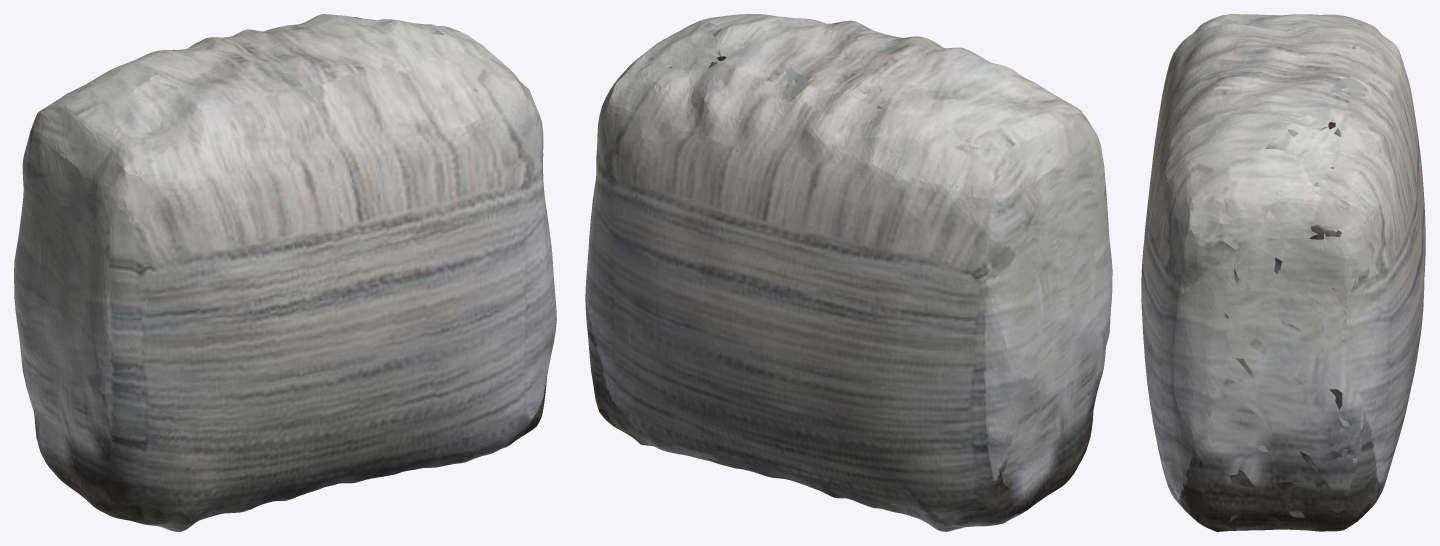
File: living-05-ottoman.glb
The picture shows the model from 3 angles, left to right: view 1: azimuth 30°, elevation 25°; view 2: azimuth 150°, elevation 25°; view 3: azimuth 270°, elevation 25°; orthographic projection. The views are drawn at different scales.
Parts seen in each view (by area): view 1: geometry_0; view 2: geometry_0; view 3: geometry_0.
Part boxes in pixels (x1,y1,x2,y2): geometry_0: (14, 14, 556, 531); geometry_0: (585, 14, 1112, 531); geometry_0: (1141, 14, 1425, 531).
Size of the model in its own units: 0.4714 by 0.4122 by 0.2757.
1 material, 1 textured.
